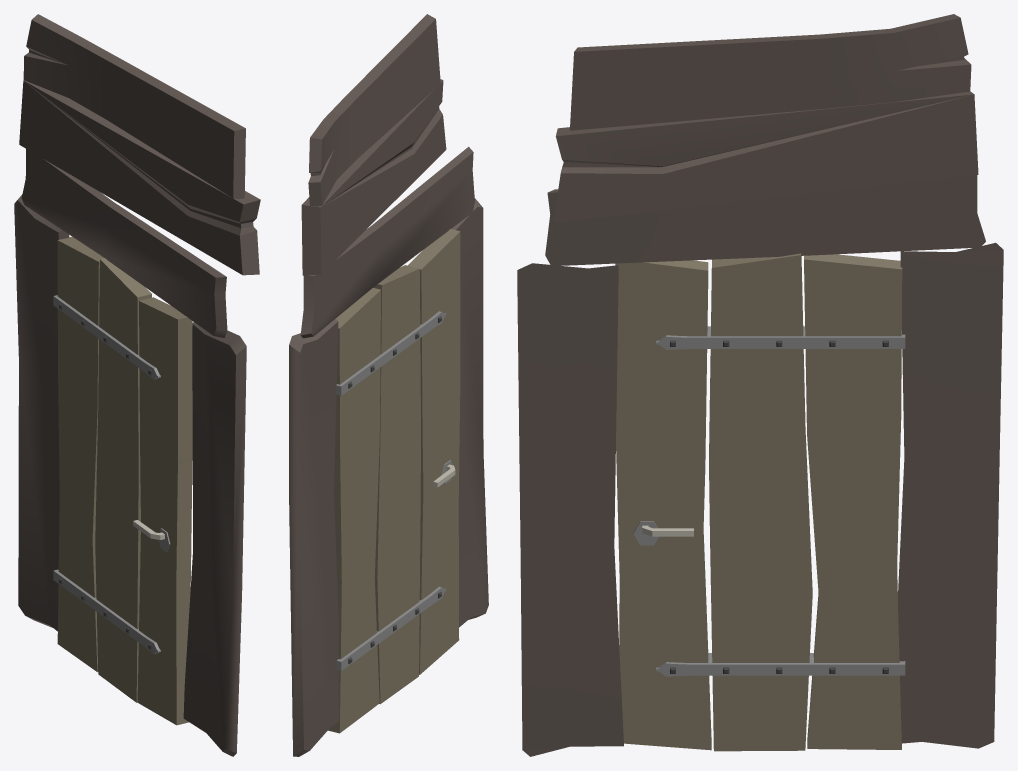
File: ACT3_WackDoor.fbx
3 renders of one model, left to right at view 1: azimuth 30°, elevation 25°; view 2: azimuth 150°, elevation 25°; view 3: azimuth 270°, elevation 25°, orthographic. The views are drawn at different scales.
Parts seen in each view (by area): view 1: Door_Base, Flank_Long83, Flank_DeepCut11, Flank_Long84, Flank_Curve33, Flank_Long81, Bar_base_F, Bar_base_T; view 2: Door_Base, Flank_Long84, Flank_Long81, Flank_DeepCut11, Flank_Long83, Flank_Curve33, Bar_base_F, Bar_base_T; view 3: Door_Base, Flank_Long84, Flank_Long83, Flank_DeepCut11, Flank_Curve33, Flank_Long81, Bar_base_F, Bar_base_T.
Part boxes in pixels (x1,y1,x2,y2): Door_Base: (57,236,192,725); Flank_Long83: (183,322,246,756); Flank_DeepCut11: (19,80,260,275); Flank_Long84: (14,194,69,631); Flank_Curve33: (23,14,245,199); Flank_Long81: (21,149,227,337); Bar_base_F: (53,569,160,654); Bar_base_T: (53,295,160,379); Door_Base: (328,229,460,733); Flank_Long84: (289,318,338,756); Flank_Long81: (300,146,474,338); Flank_DeepCut11: (301,79,446,275); Flank_Long83: (451,198,488,627); Flank_Curve33: (308,14,440,206); Bar_base_F: (336,586,446,670); Bar_base_T: (336,311,446,395); Door_Base: (615,253,902,751); Flank_Long84: (897,242,1003,748); Flank_Long83: (517,263,623,756); Flank_DeepCut11: (553,91,978,222); Flank_Curve33: (570,14,971,130); Flank_Long81: (545,175,985,265); Bar_base_F: (656,653,905,676); Bar_base_T: (656,326,905,349).
Bounding box in the file's own units: 0.7121 × 6.07 × 3.66.
